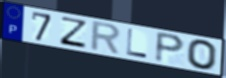7: (30, 10, 53, 42)
L: (125, 27, 149, 59)
O: (186, 39, 219, 72)
P: (154, 31, 187, 65)
R: (89, 20, 123, 57)
Z: (59, 16, 89, 50)
